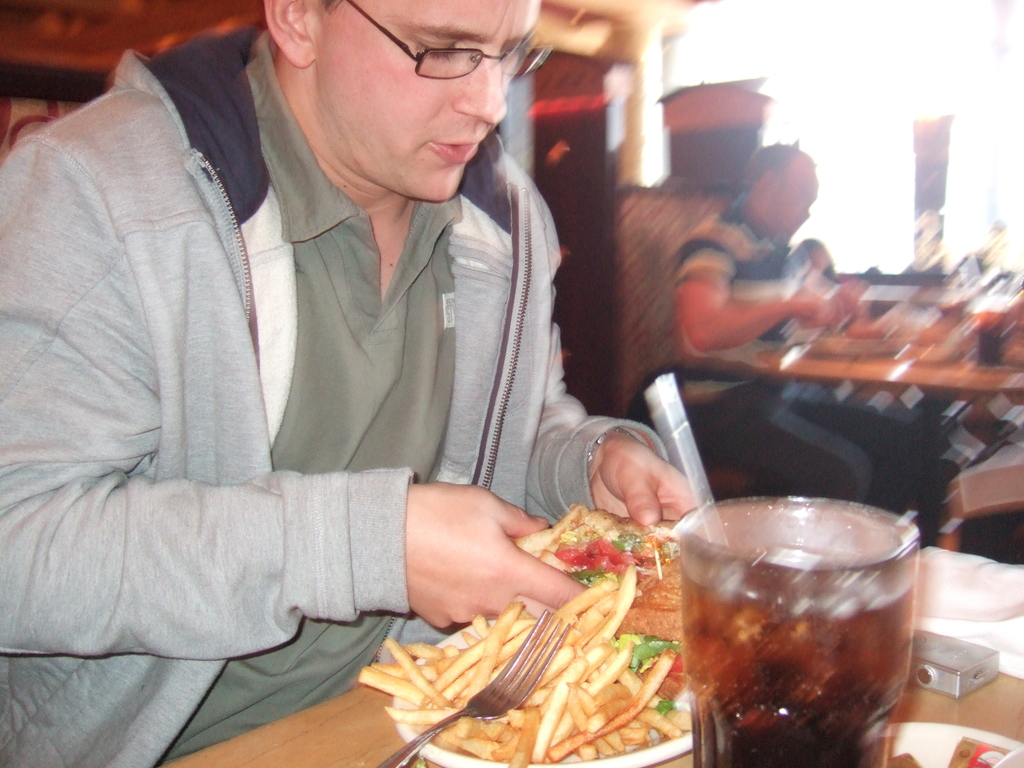French fries: (379, 539, 721, 748)
